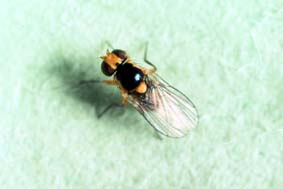Trifoli: (80, 43, 199, 146)
